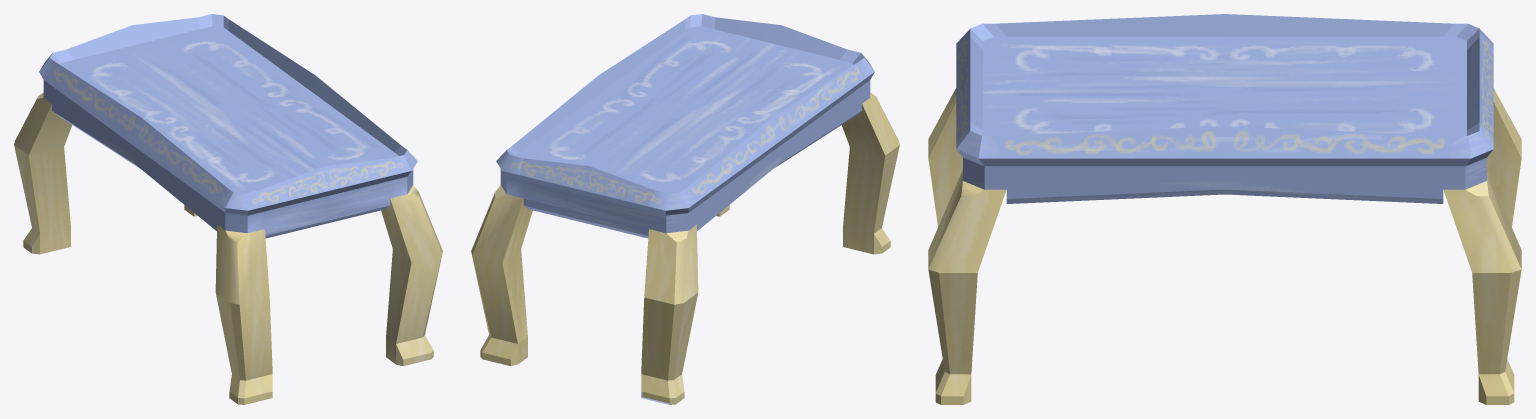
Rendered from CoffeeTable_Living_01.fbx.
The picture shows the model from 3 angles, left to right: view 1: azimuth 30°, elevation 25°; view 2: azimuth 150°, elevation 25°; view 3: azimuth 270°, elevation 25°; orthographic projection. The views are drawn at different scales.
Parts seen in each view (by area): view 1: CoffeeTable_Living_01; view 2: CoffeeTable_Living_01; view 3: CoffeeTable_Living_01.
Boxes of the visible parts, box(x1,y1,x2,y2) form: CoffeeTable_Living_01: box(14, 14, 442, 404); CoffeeTable_Living_01: box(471, 14, 899, 404); CoffeeTable_Living_01: box(928, 14, 1521, 404).
Size of the model in its own units: 0.5318 by 0.4933 by 0.9716.
